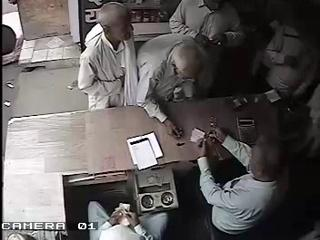Normal: (195, 118, 288, 240), (135, 34, 212, 136), (194, 0, 248, 97), (98, 205, 152, 240), (168, 0, 210, 37)
shoplifting: (77, 1, 139, 111)
